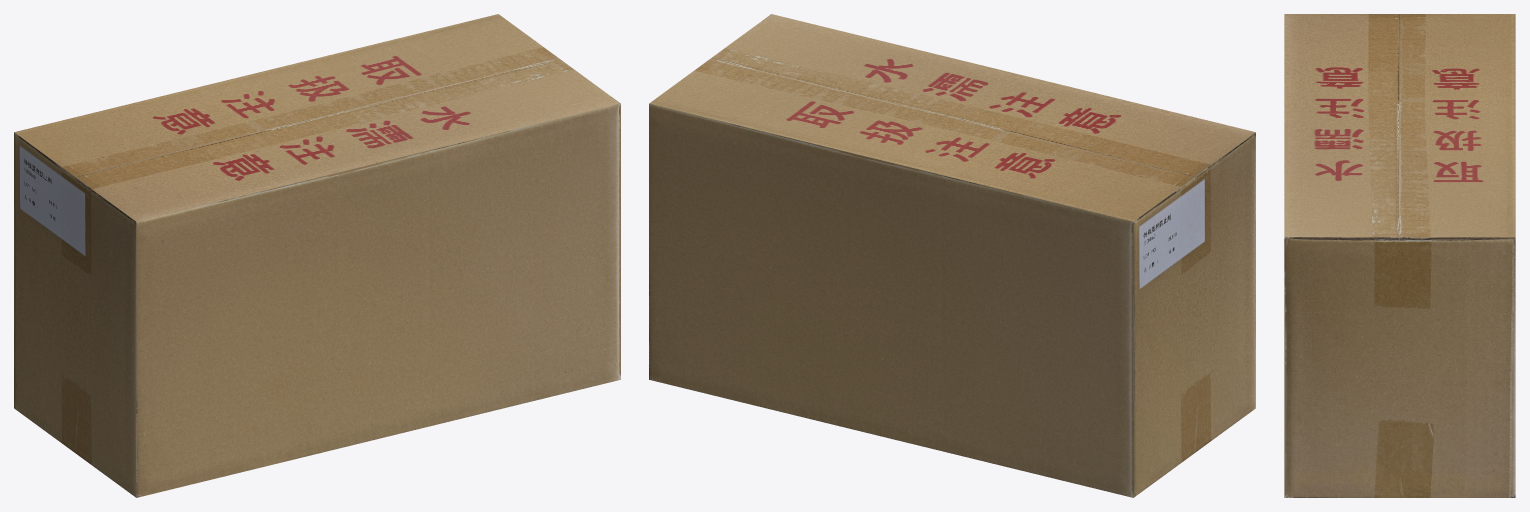
Rendered from koukin-case.glb.
The picture shows the model from 3 angles, left to right: view 1: azimuth 30°, elevation 25°; view 2: azimuth 150°, elevation 25°; view 3: azimuth 270°, elevation 25°; orthographic projection. The views are drawn at different scales.
Visible parts, largest first — view 1: case; view 2: case; view 3: case.
Part boxes in pixels (left/top/right/bottom): case: left=14, top=14, right=620, bottom=497; case: left=649, top=14, right=1255, bottom=497; case: left=1284, top=14, right=1515, bottom=497.
Size of the model in its own units: 0.4774 by 0.26 by 0.209.
6 materials, 5 textured.
